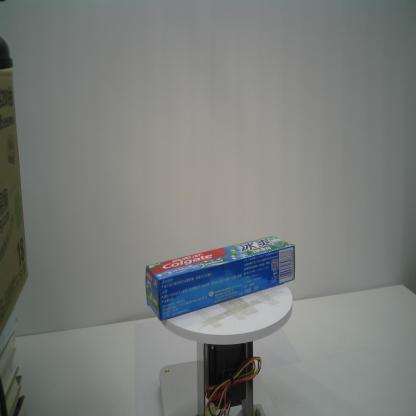Personal Hygiene: (145, 235, 295, 322)
